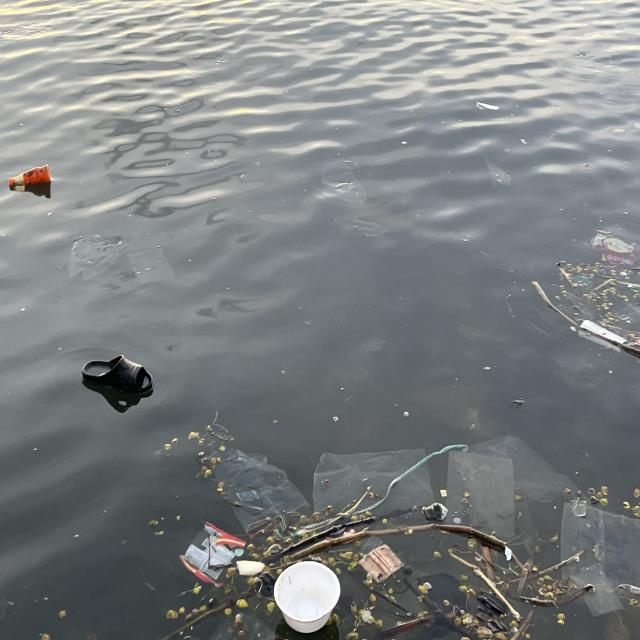foam: (274, 561, 339, 633), (236, 560, 265, 575)
plastic: (416, 571, 471, 635), (8, 165, 52, 186)
plastic bottle: (465, 435, 590, 546), (561, 502, 640, 617), (313, 451, 434, 518), (207, 451, 310, 529), (445, 448, 514, 548), (178, 526, 246, 586), (68, 235, 123, 281), (203, 610, 279, 640), (591, 228, 639, 268), (323, 160, 366, 204), (128, 246, 176, 281), (579, 320, 627, 354), (485, 157, 512, 188), (477, 101, 499, 111)
unknow: (82, 355, 154, 393), (358, 546, 404, 582), (254, 571, 275, 599), (572, 274, 592, 293)
